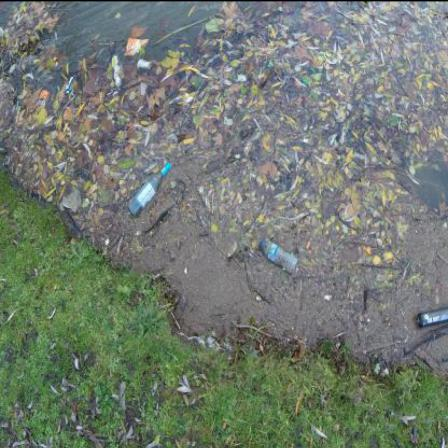Bottle: (128, 162, 173, 218), (260, 241, 298, 273)
Can: (417, 305, 448, 327)
Other plastic: (307, 241, 311, 249), (304, 78, 309, 83), (268, 64, 270, 68)
Plastic bag - wrapper: (124, 38, 150, 56), (37, 89, 52, 111), (65, 74, 79, 96)
Unlabeled litter: (113, 55, 123, 87), (138, 58, 153, 70), (315, 92, 323, 96)
